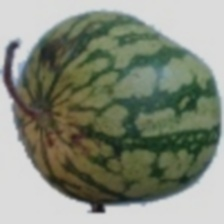watermelon: (60, 46, 204, 220)
